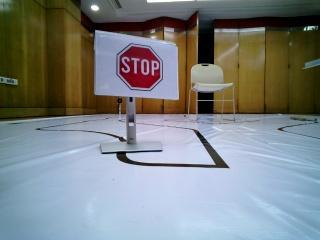stop: (103, 37, 172, 96)
